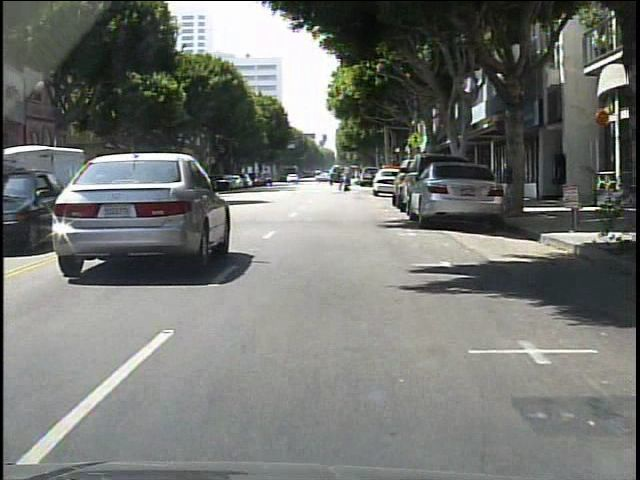person: (340, 166, 352, 191)
